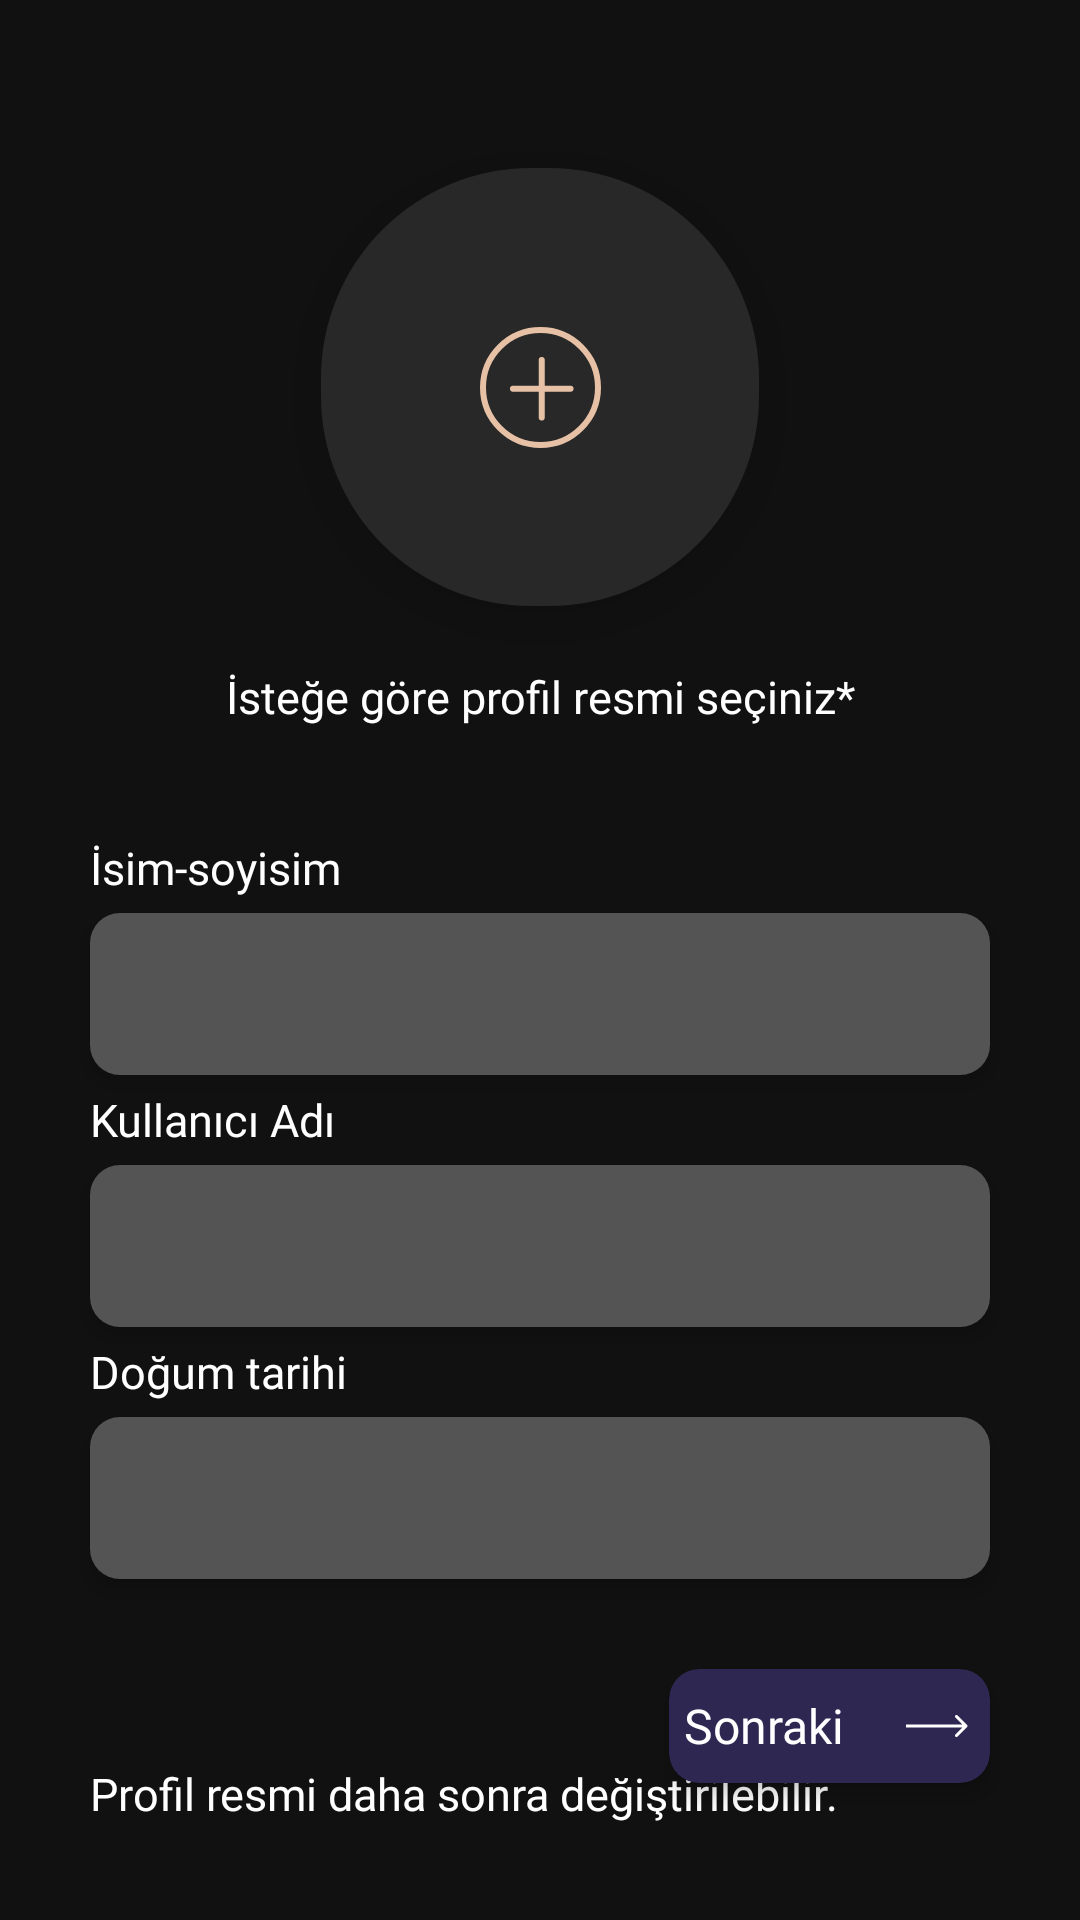

Icons on this 1080w x 1920h Android screen, each with its box as {"left": x1, "top": y1, "right": x2, "bottom": y2}:
arrow: {"left": 906, "top": 1715, "right": 968, "bottom": 1737}
